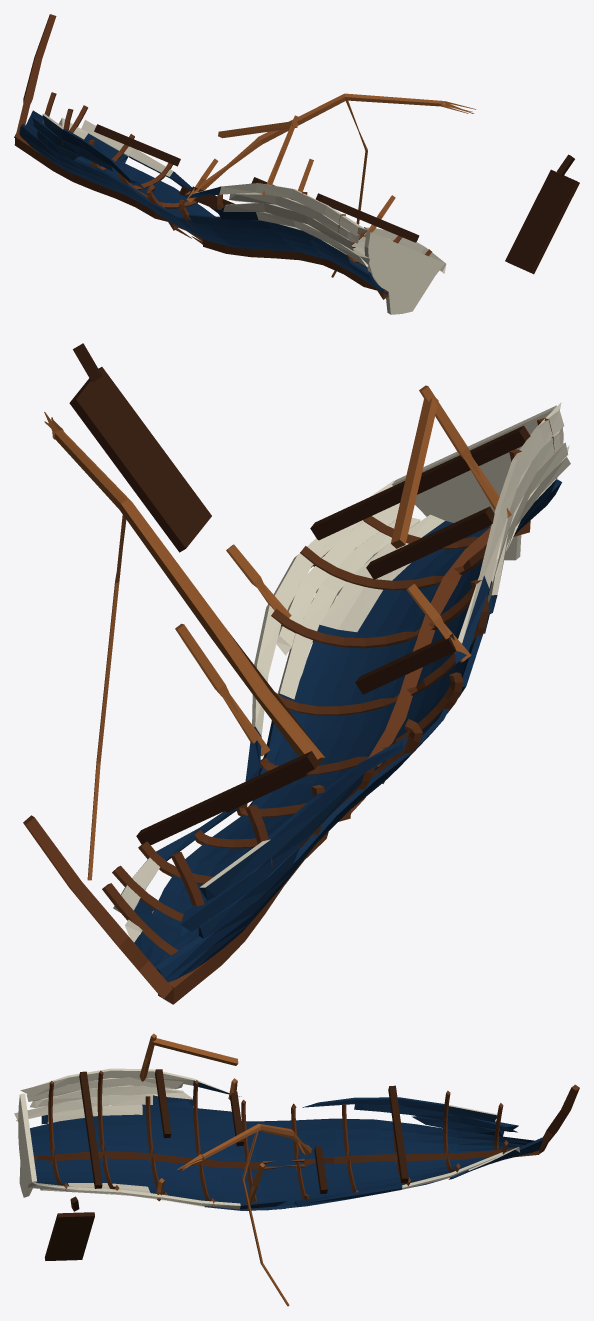
File: DISASTER_12_CollapsedBoatHull.obj
The picture shows the model from 3 angles, top to bottom: view 1: azimuth 30°, elevation 25°; view 2: azimuth 150°, elevation 25°; view 3: azimuth 270°, elevation 25°; orthographic projection. The views are drawn at different scales.
Visible parts, largest first — view 1: DISASTER_12_CollapsedBoatHull_Planks_Port, DISASTER_12_CollapsedBoatHull_Planks_Starboard, DISASTER_12_CollapsedBoatHull_Transom, DISASTER_12_CollapsedBoatHull_Rudder_Detached, DISASTER_12_CollapsedBoatHull_Mast_Broken, DISASTER_12_CollapsedBoatHull_Deck_Beams, DISASTER_12_CollapsedBoatHull_Ribs, DISASTER_12_CollapsedBoatHull_Cabin_Posts, DISASTER_12_CollapsedBoatHull_Keel_Aft, DISASTER_12_CollapsedBoatHull_Keel_Fore, DISASTER_12_CollapsedBoatHull_Stem; view 2: DISASTER_12_CollapsedBoatHull_Planks_Starboard, DISASTER_12_CollapsedBoatHull_Planks_Port, DISASTER_12_CollapsedBoatHull_Ribs, DISASTER_12_CollapsedBoatHull_Deck_Beams, DISASTER_12_CollapsedBoatHull_Rudder_Detached, DISASTER_12_CollapsedBoatHull_Mast_Broken, DISASTER_12_CollapsedBoatHull_Cabin_Posts, DISASTER_12_CollapsedBoatHull_Transom, DISASTER_12_CollapsedBoatHull_Stem, DISASTER_12_CollapsedBoatHull_Keel_Aft, DISASTER_12_CollapsedBoatHull_Keel_Fore; view 3: DISASTER_12_CollapsedBoatHull_Planks_Port, DISASTER_12_CollapsedBoatHull_Planks_Starboard, DISASTER_12_CollapsedBoatHull_Ribs, DISASTER_12_CollapsedBoatHull_Deck_Beams, DISASTER_12_CollapsedBoatHull_Rudder_Detached, DISASTER_12_CollapsedBoatHull_Mast_Broken, DISASTER_12_CollapsedBoatHull_Keel_Aft, DISASTER_12_CollapsedBoatHull_Cabin_Posts, DISASTER_12_CollapsedBoatHull_Keel_Fore, DISASTER_12_CollapsedBoatHull_Transom, DISASTER_12_CollapsedBoatHull_Stem.
Boxes of the visible parts, x1,y1,x2,y2 form: DISASTER_12_CollapsedBoatHull_Planks_Port: (19, 113, 386, 294); DISASTER_12_CollapsedBoatHull_Planks_Starboard: (26, 110, 446, 294); DISASTER_12_CollapsedBoatHull_Transom: (364, 231, 444, 314); DISASTER_12_CollapsedBoatHull_Rudder_Detached: (505, 154, 579, 274); DISASTER_12_CollapsedBoatHull_Mast_Broken: (185, 93, 475, 277); DISASTER_12_CollapsedBoatHull_Deck_Beams: (94, 124, 419, 242); DISASTER_12_CollapsedBoatHull_Ribs: (40, 92, 431, 262); DISASTER_12_CollapsedBoatHull_Cabin_Posts: (186, 115, 395, 237); DISASTER_12_CollapsedBoatHull_Keel_Aft: (187, 231, 387, 299); DISASTER_12_CollapsedBoatHull_Keel_Fore: (14, 134, 191, 238); DISASTER_12_CollapsedBoatHull_Stem: (14, 14, 56, 137); DISASTER_12_CollapsedBoatHull_Planks_Starboard: (113, 480, 490, 966); DISASTER_12_CollapsedBoatHull_Planks_Port: (155, 402, 570, 982); DISASTER_12_CollapsedBoatHull_Ribs: (102, 418, 554, 955); DISASTER_12_CollapsedBoatHull_Deck_Beams: (136, 425, 530, 844); DISASTER_12_CollapsedBoatHull_Rudder_Detached: (69, 343, 211, 552); DISASTER_12_CollapsedBoatHull_Mast_Broken: (44, 412, 324, 880); DISASTER_12_CollapsedBoatHull_Cabin_Posts: (175, 385, 511, 756); DISASTER_12_CollapsedBoatHull_Transom: (392, 405, 563, 560); DISASTER_12_CollapsedBoatHull_Stem: (23, 815, 172, 998); DISASTER_12_CollapsedBoatHull_Keel_Aft: (368, 520, 530, 783); DISASTER_12_CollapsedBoatHull_Keel_Fore: (158, 797, 365, 1004); DISASTER_12_CollapsedBoatHull_Planks_Port: (14, 1068, 534, 1165); DISASTER_12_CollapsedBoatHull_Planks_Starboard: (27, 1137, 542, 1210); DISASTER_12_CollapsedBoatHull_Ribs: (48, 1070, 508, 1208); DISASTER_12_CollapsedBoatHull_Deck_Beams: (79, 1069, 408, 1193); DISASTER_12_CollapsedBoatHull_Rudder_Detached: (44, 1196, 94, 1260); DISASTER_12_CollapsedBoatHull_Mast_Broken: (177, 1123, 311, 1306); DISASTER_12_CollapsedBoatHull_Keel_Aft: (34, 1151, 283, 1169); DISASTER_12_CollapsedBoatHull_Cabin_Posts: (139, 1033, 265, 1210); DISASTER_12_CollapsedBoatHull_Keel_Fore: (286, 1148, 539, 1167); DISASTER_12_CollapsedBoatHull_Transom: (18, 1093, 36, 1197); DISASTER_12_CollapsedBoatHull_Stem: (539, 1084, 579, 1153).
Size of the model in its own units: 4.41 by 3.28 by 7.53.
